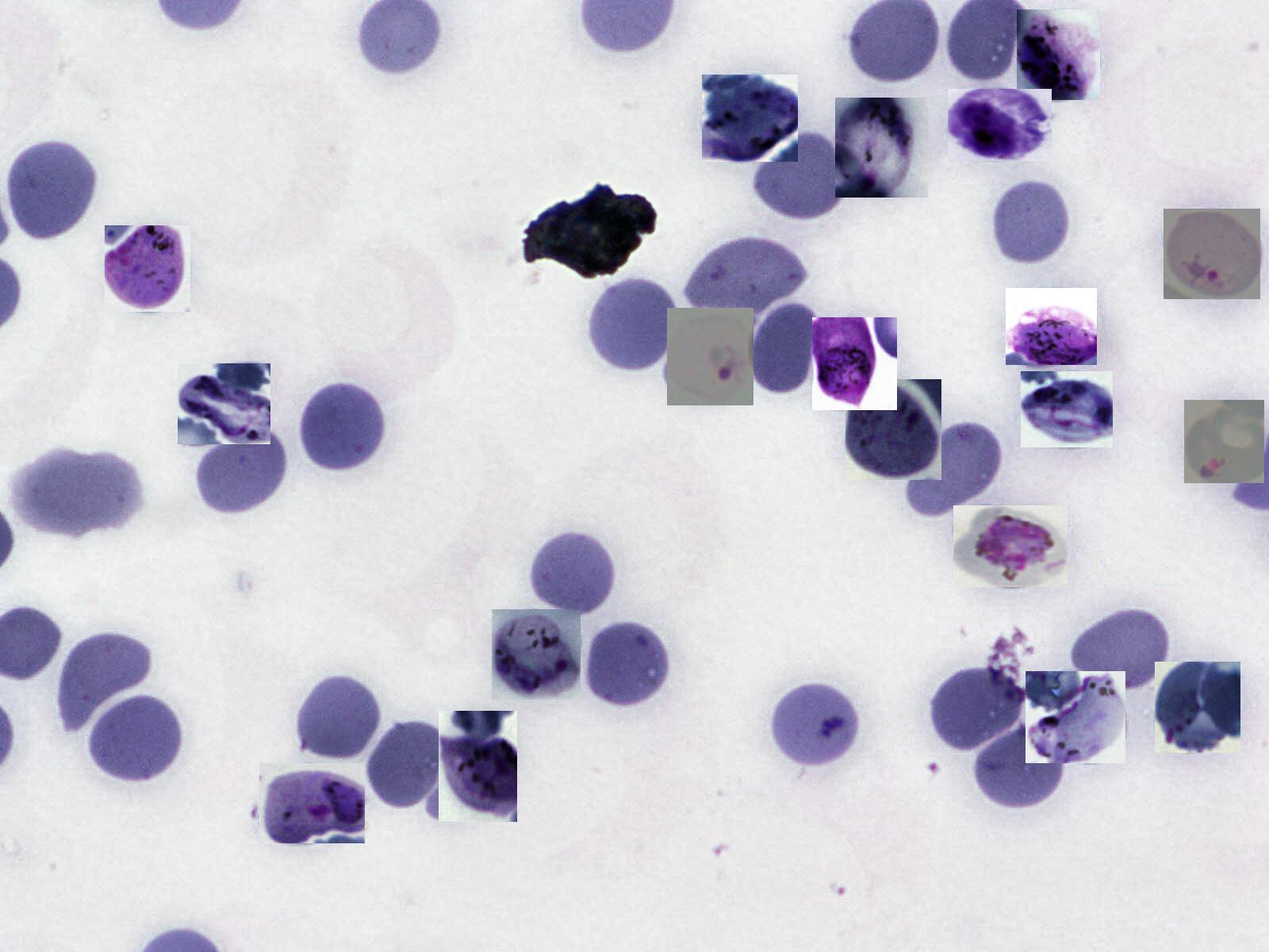Infected: (845, 379, 941, 480), (953, 505, 1068, 587), (835, 98, 928, 198), (1026, 671, 1125, 763), (439, 711, 517, 822), (1164, 209, 1260, 299), (259, 763, 365, 843), (702, 75, 798, 162), (667, 308, 753, 405), (492, 609, 581, 700), (812, 317, 897, 410), (1155, 662, 1240, 753), (948, 89, 1052, 161), (1017, 10, 1100, 100), (178, 363, 270, 444), (105, 225, 190, 312), (1006, 288, 1097, 365), (1021, 371, 1113, 447), (1184, 400, 1264, 483)
Uninfected: (56, 631, 152, 733), (930, 663, 1033, 757), (685, 237, 808, 313), (293, 385, 393, 478), (908, 422, 1003, 515), (6, 141, 94, 241), (590, 278, 680, 374), (365, 714, 451, 812), (754, 130, 847, 219), (90, 694, 183, 781), (770, 682, 859, 771), (1070, 608, 1167, 689), (196, 428, 288, 513), (976, 724, 1064, 807), (587, 622, 669, 707), (531, 533, 613, 616), (295, 677, 380, 756), (752, 301, 821, 393), (993, 181, 1068, 263)
